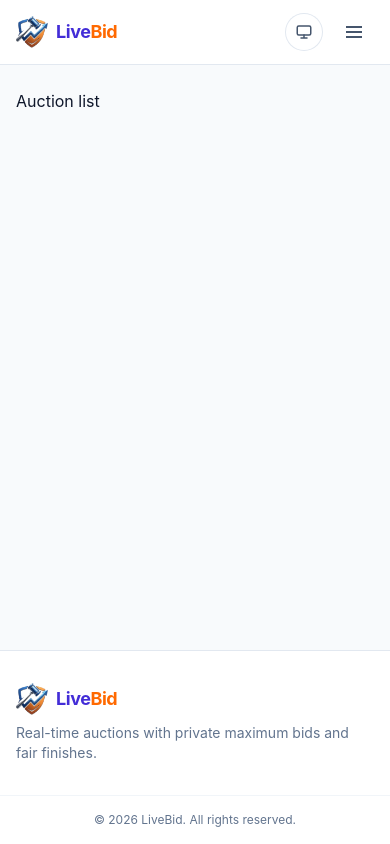
<Layout> phone menu › starts closed and opens with every admin link
The width and height of the screenshot is (390, 844).
Click the button named "menu": [354, 32] box [334,12,374,52]
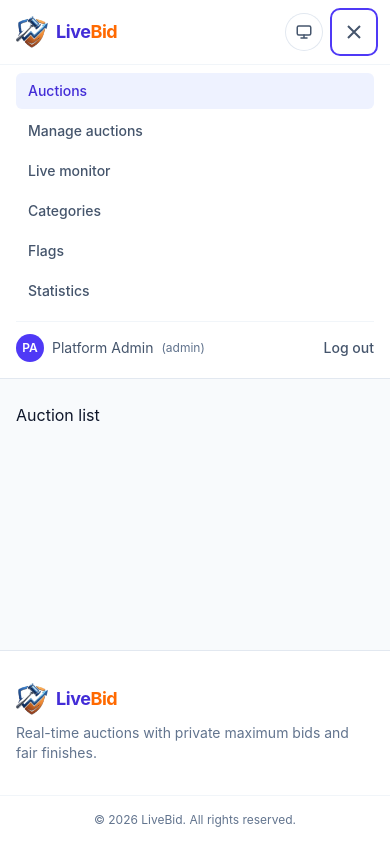
Now the button named "menu" is expanded, box [334,12,374,52]
Now the link "Auctions" is shown, box [16,73,374,109]
Now the link "Manage auctions" is shown, box [28,122,143,139]
